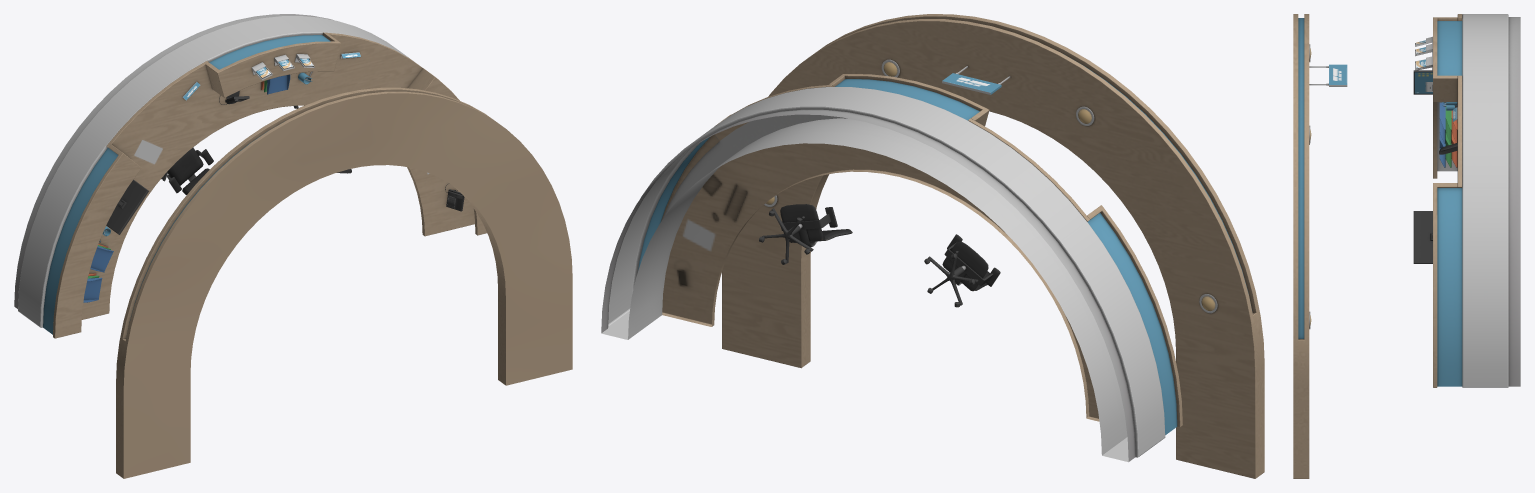
Rendered from aws_robomaker_hospital_nursesstation_01_visual.dae.
3 views of the same model, side by side, from view 1: azimuth 30°, elevation 25°; view 2: azimuth 150°, elevation 25°; view 3: azimuth 270°, elevation 25° (orthographic). The views are drawn at different scales.
Parts seen in each view (by area): view 1: aws_robomaker_hospital_nursesstation_01_visual; view 2: aws_robomaker_hospital_nursesstation_01_visual; view 3: aws_robomaker_hospital_nursesstation_01_visual.
Part boxes in pixels (box(x1,y1,x2,y2)): aws_robomaker_hospital_nursesstation_01_visual: box(14, 14, 572, 478); aws_robomaker_hospital_nursesstation_01_visual: box(601, 14, 1264, 478); aws_robomaker_hospital_nursesstation_01_visual: box(1293, 14, 1520, 478).
Size of the model in its own units: 700 by 484 by 302.
1 material, 1 textured.
